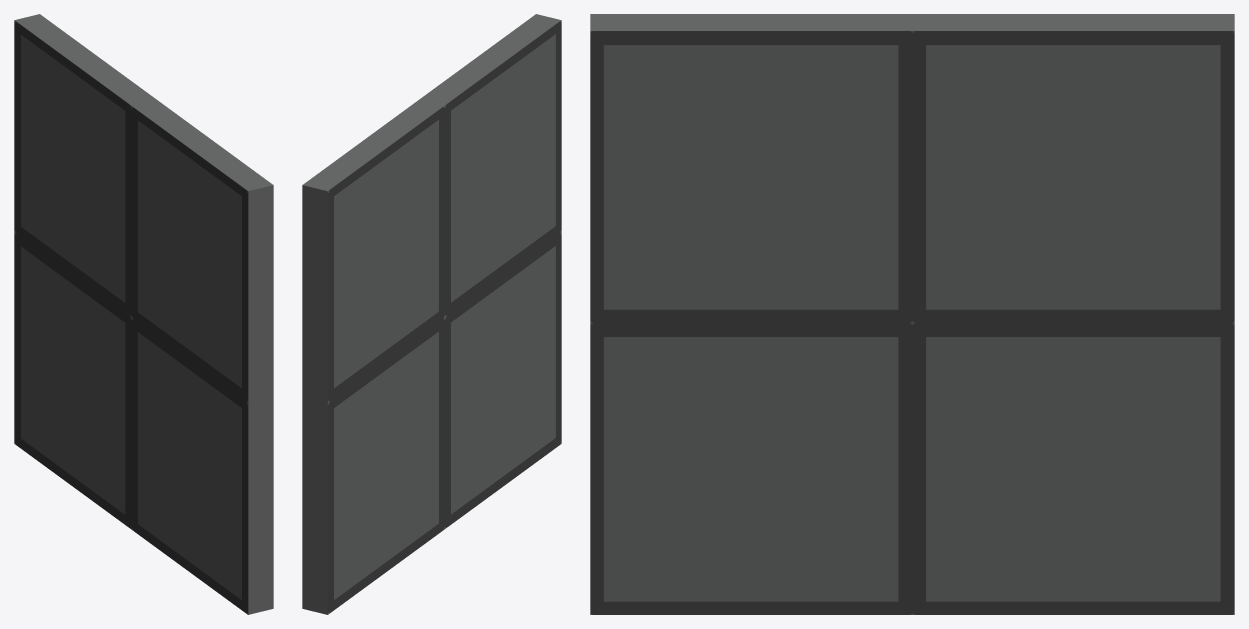
The model's file is Door.glb.
3 renders of one model, left to right at view 1: azimuth 30°, elevation 25°; view 2: azimuth 150°, elevation 25°; view 3: azimuth 270°, elevation 25°, orthographic. The views are drawn at different scales.
Visible parts, largest first — view 1: Cube.4, Cube.1, Cube.3, Cube.2; view 2: Cube.3, Cube.2, Cube.4, Cube.1; view 3: Cube.3, Cube.4, Cube.2, Cube.1.
Part boxes in pixels (bbox=[...]): Cube.4: bbox=[131, 99, 273, 402]; Cube.1: bbox=[131, 318, 273, 614]; Cube.3: bbox=[14, 14, 156, 316]; Cube.2: bbox=[14, 232, 131, 528]; Cube.3: bbox=[302, 99, 444, 402]; Cube.2: bbox=[302, 318, 444, 614]; Cube.4: bbox=[419, 14, 561, 316]; Cube.1: bbox=[444, 232, 561, 528]; Cube.3: bbox=[912, 14, 1234, 322]; Cube.4: bbox=[590, 14, 912, 322]; Cube.2: bbox=[912, 323, 1234, 614]; Cube.1: bbox=[590, 323, 912, 614].
Size of the model in its own units: 0.2509 by 4 by 4.
Materials: 4 (4 with a texture image).
